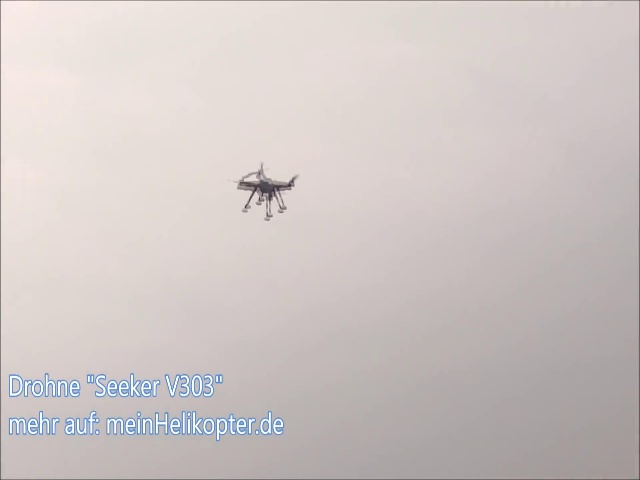drone: (230, 161, 301, 222)
